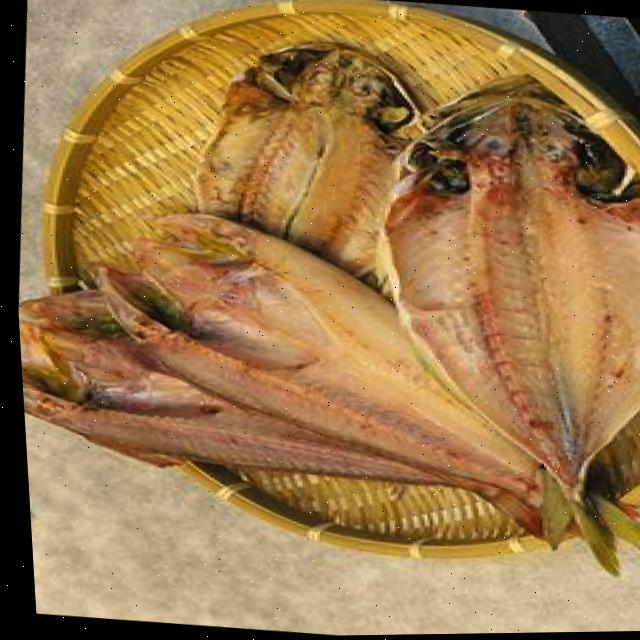熟制海鲜: (1, 10, 640, 589)
